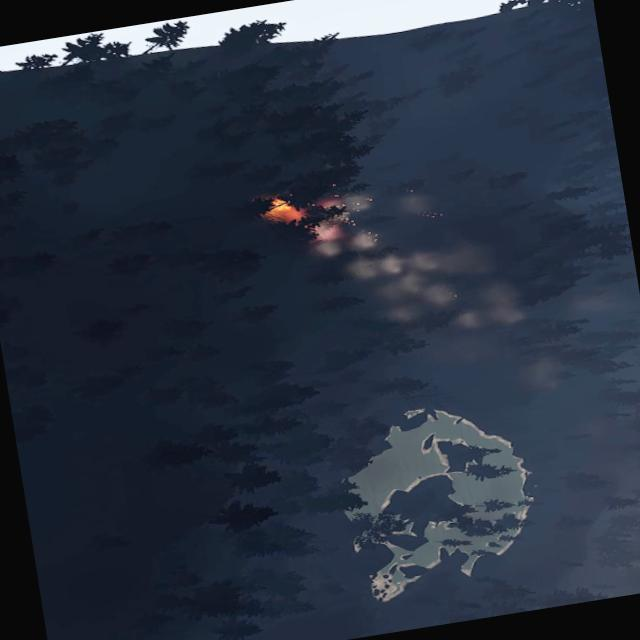fire: (262, 196, 303, 226)
smoke: (306, 168, 532, 354)
